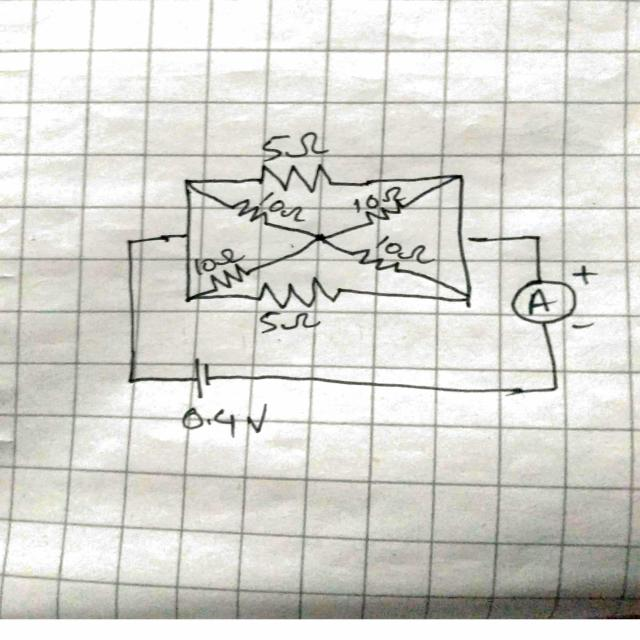junction: (458, 291, 476, 307), (179, 175, 196, 191), (180, 290, 197, 306), (310, 229, 327, 245), (528, 230, 545, 246), (180, 229, 198, 244), (122, 373, 140, 388), (546, 379, 564, 394), (451, 170, 468, 185), (453, 232, 470, 247), (122, 236, 138, 251)
resistor: (257, 275, 343, 313), (254, 163, 334, 195), (350, 247, 403, 276), (209, 262, 251, 292), (362, 199, 407, 226), (229, 198, 269, 228)
source: (189, 356, 216, 402)
text: (180, 400, 269, 437), (261, 131, 330, 158), (254, 310, 324, 336), (376, 234, 436, 264), (352, 184, 410, 213), (259, 190, 307, 222), (192, 247, 241, 275)
